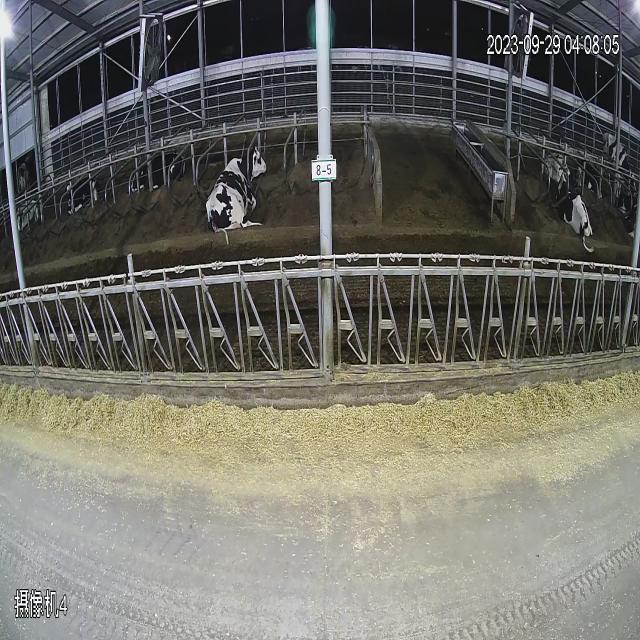lying down: (531, 136, 603, 270), (196, 125, 274, 231), (122, 132, 184, 214), (59, 153, 111, 224), (7, 178, 58, 250), (614, 184, 640, 238)
